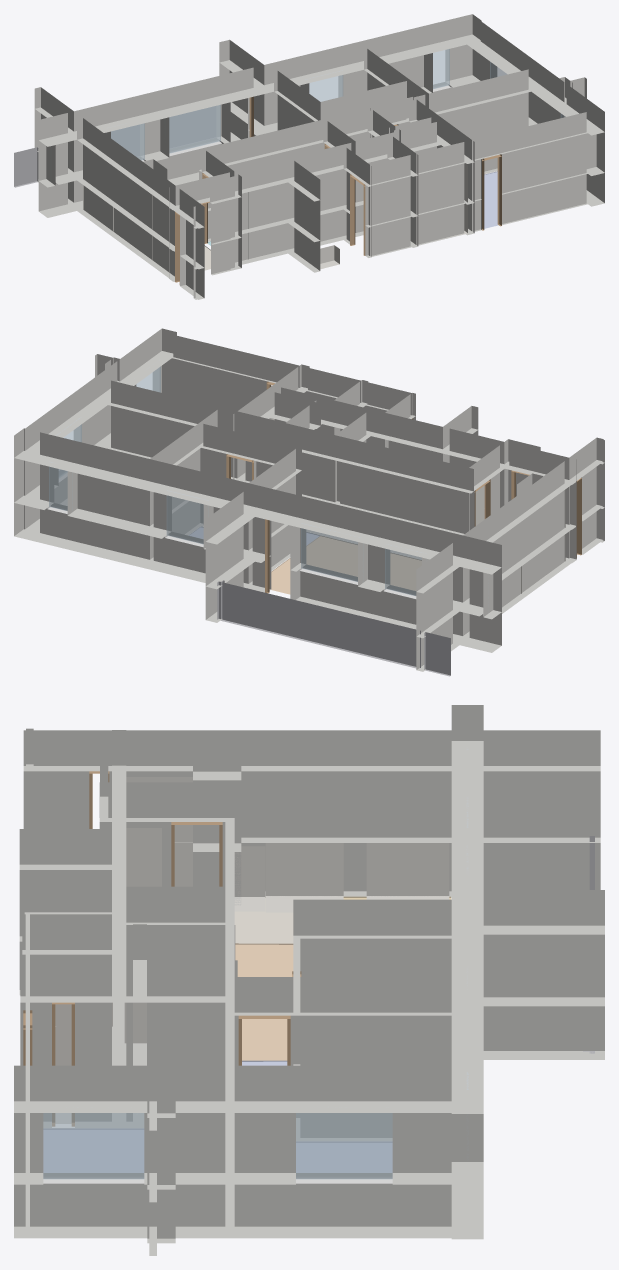
3 views of the same model, one above another, from view 1: azimuth 30°, elevation 25°; view 2: azimuth 150°, elevation 25°; view 3: azimuth 270°, elevation 25° (orthographic). The views are drawn at different scales.
Visible parts, largest first — view 1: walls, railings, window_5, window_0, floor_10_Bed_Room, window_1, door_14, window_2, door_13, furniture_9_toilet; view 2: walls, railings, floor_2_Living_Room, window_5, window_1, window_0, window_2; view 3: walls, window_6, window_4, furniture_5_appliance, furniture_4_appliance, floor_10_Bed_Room, floor_2_Living_Room, floor_6_Bed_Room, furniture_2_closet, floor_3_Entry, furniture_10_sink, furniture_1_closet (+1 smaller).
Boxes of the visible parts, x1,y1,x2,y2 form: walls: (34, 14, 604, 299); railings: (14, 106, 215, 187); window_5: (169, 105, 220, 153); window_0: (106, 123, 144, 160); floor_10_Bed_Room: (484, 171, 498, 228); window_1: (305, 70, 343, 101); door_14: (350, 174, 365, 255); window_2: (433, 49, 449, 89); door_13: (482, 154, 501, 230); furniture_9_toilet: (320, 245, 339, 269); walls: (14, 328, 604, 671); railings: (217, 580, 450, 676); floor_2_Living_Room: (271, 536, 421, 594); window_5: (301, 523, 359, 581); window_1: (166, 490, 208, 544); window_0: (385, 544, 421, 595); window_2: (49, 462, 72, 510); walls: (14, 705, 604, 1255); window_6: (43, 1113, 144, 1179); window_4: (296, 1113, 392, 1179); furniture_5_appliance: (265, 843, 343, 912); furniture_4_appliance: (366, 843, 449, 899); floor_10_Bed_Room: (43, 1128, 143, 1172); floor_2_Living_Room: (235, 943, 293, 1060); floor_6_Bed_Room: (296, 1141, 392, 1172); furniture_2_closet: (126, 828, 161, 886); floor_3_Entry: (234, 897, 293, 943); furniture_10_sink: (234, 846, 265, 911); furniture_1_closet: (126, 777, 192, 886).
Size of the model in its own units: 14 by 2.72 by 8.97.
